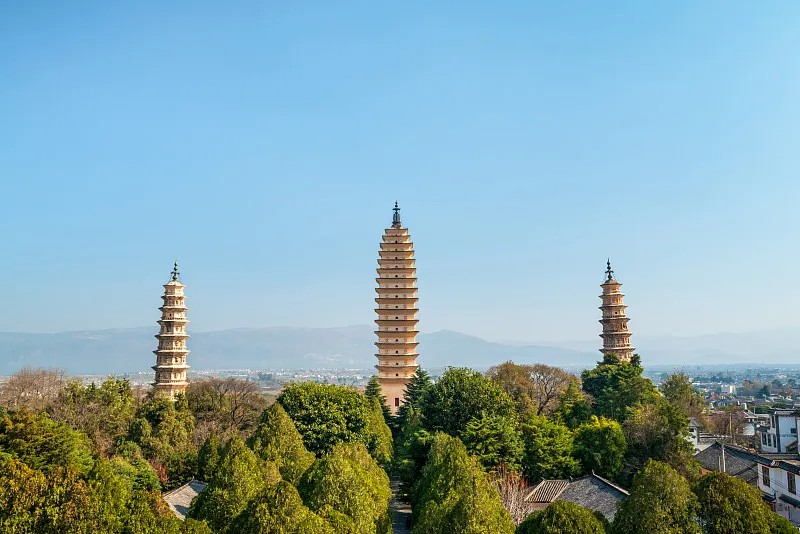ThreePagoda: (374, 200, 419, 416)
